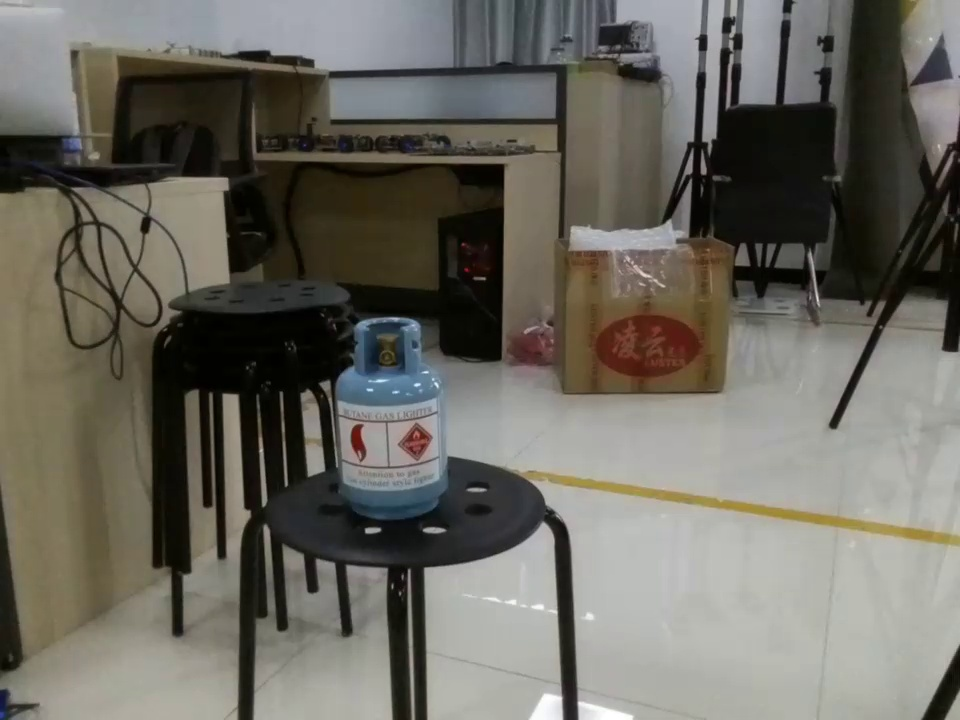gas tank: (323, 317, 464, 532)
